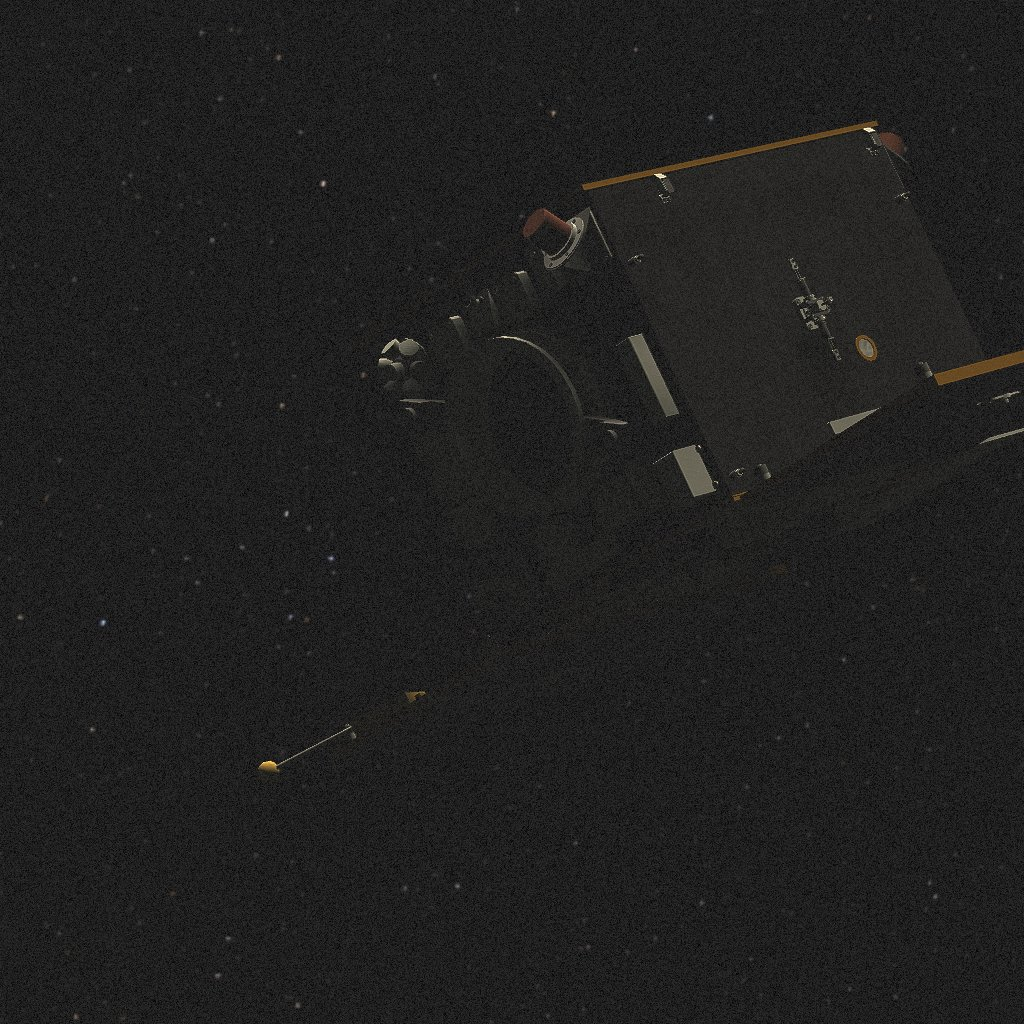proba_2: (258, 121, 1024, 783)
